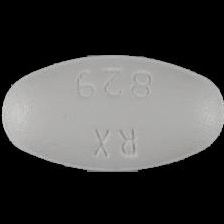63304-829: (0, 0, 224, 224)
